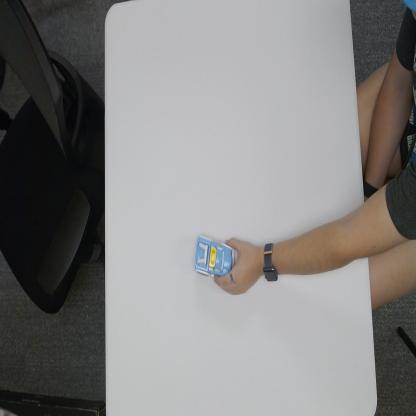Arm: (278, 208, 366, 276)
Car: (193, 233, 234, 277)
Hand: (213, 236, 259, 297)
